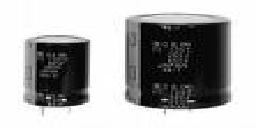Electrolytic-Capacitor: (120, 9, 242, 117), (20, 31, 98, 128)
